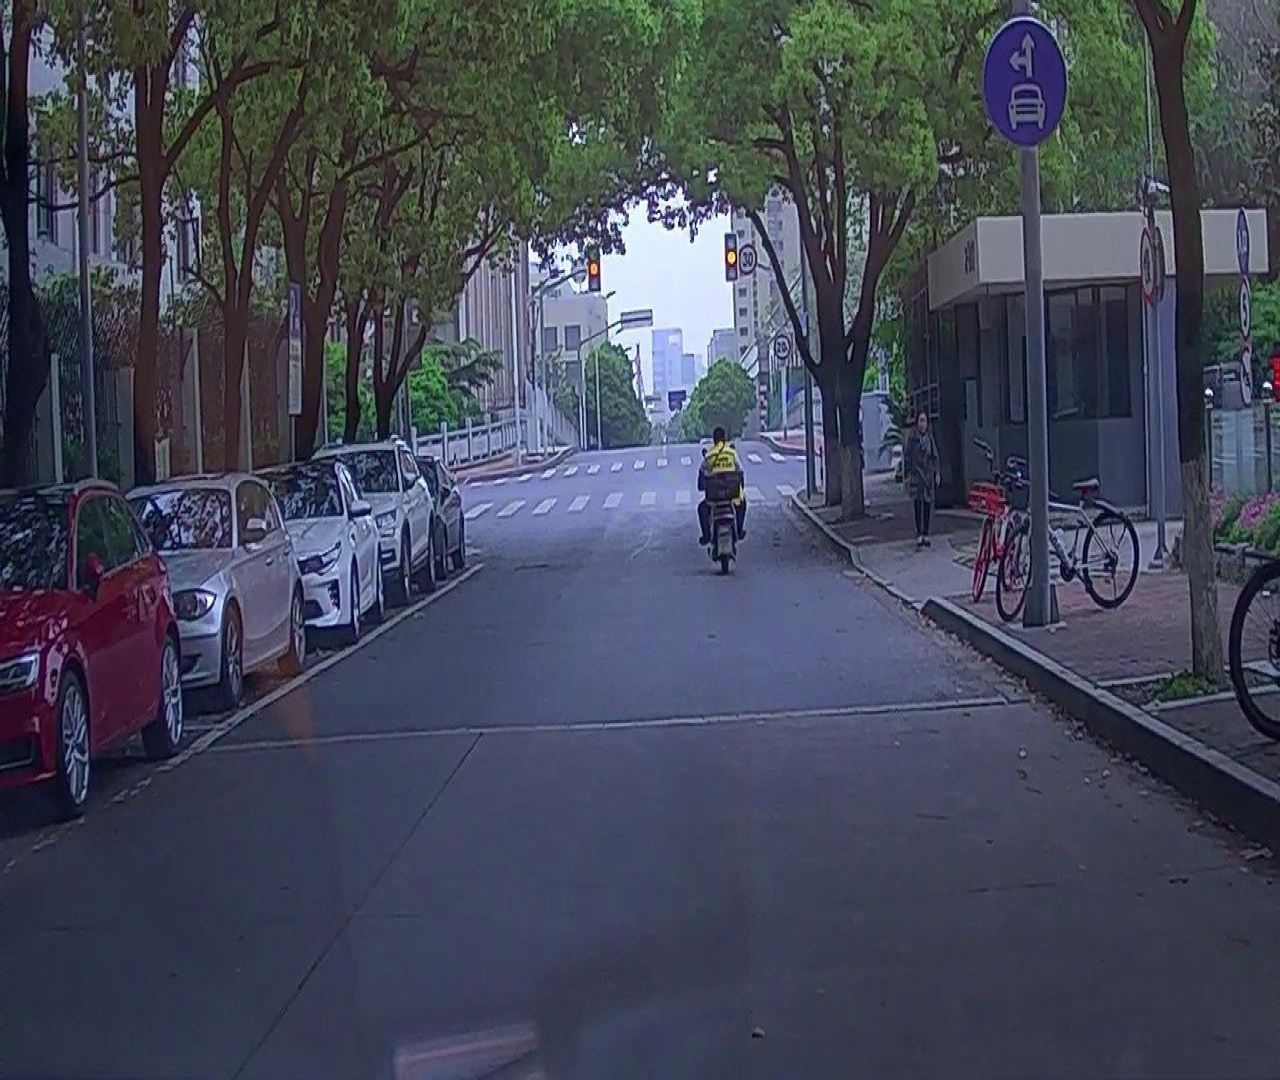yellow: (588, 243, 600, 294), (726, 232, 737, 280)
